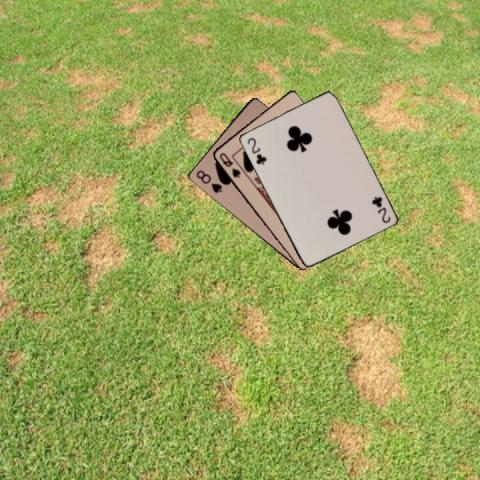2c: (244, 135, 267, 166), (369, 193, 391, 225)
8s: (193, 167, 223, 195)
Qs: (216, 150, 242, 179)
